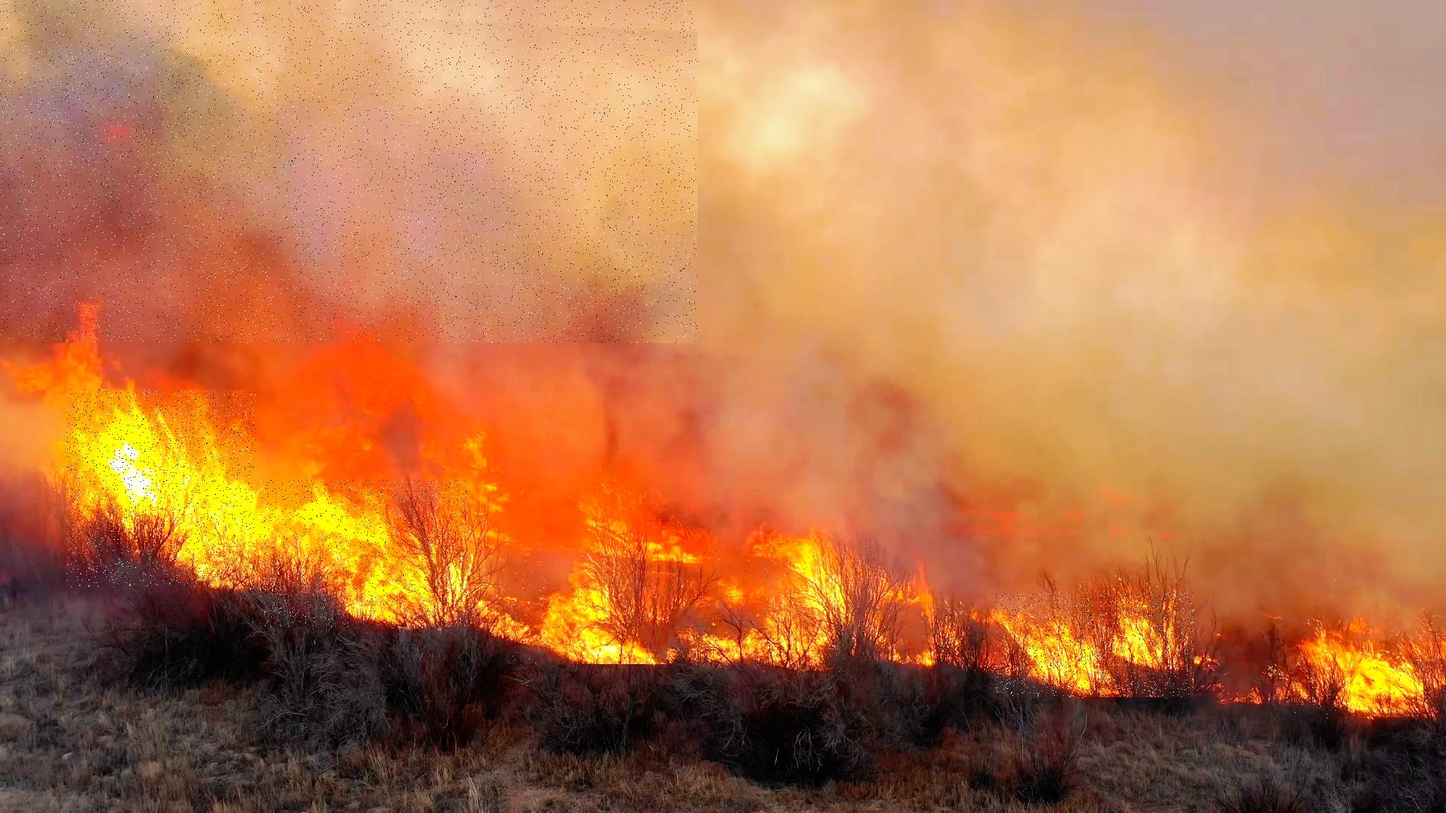fire: (66, 390, 256, 587), (260, 480, 467, 627), (703, 538, 877, 671), (995, 593, 1194, 697), (506, 560, 675, 664), (1291, 641, 1423, 718)
smoke: (0, 0, 698, 343)
